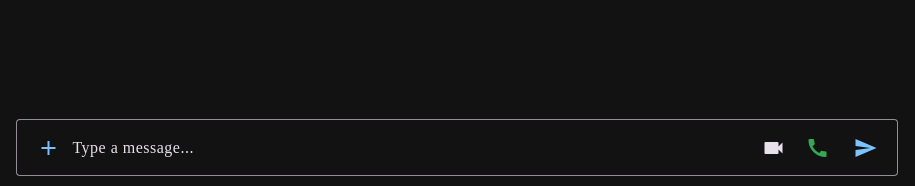
Test case: ChatPanelComponent › disabled features › should have the attach_file button disabled
# Open the actions menu
Click the button with class "input-prefix-menu-btn" at coordinates (48, 148), box [28, 128, 68, 168]
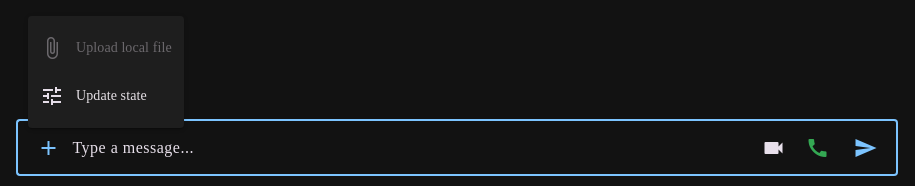
Expected: the menu item "Upload local file" is disabled, [28, 24, 184, 72]
